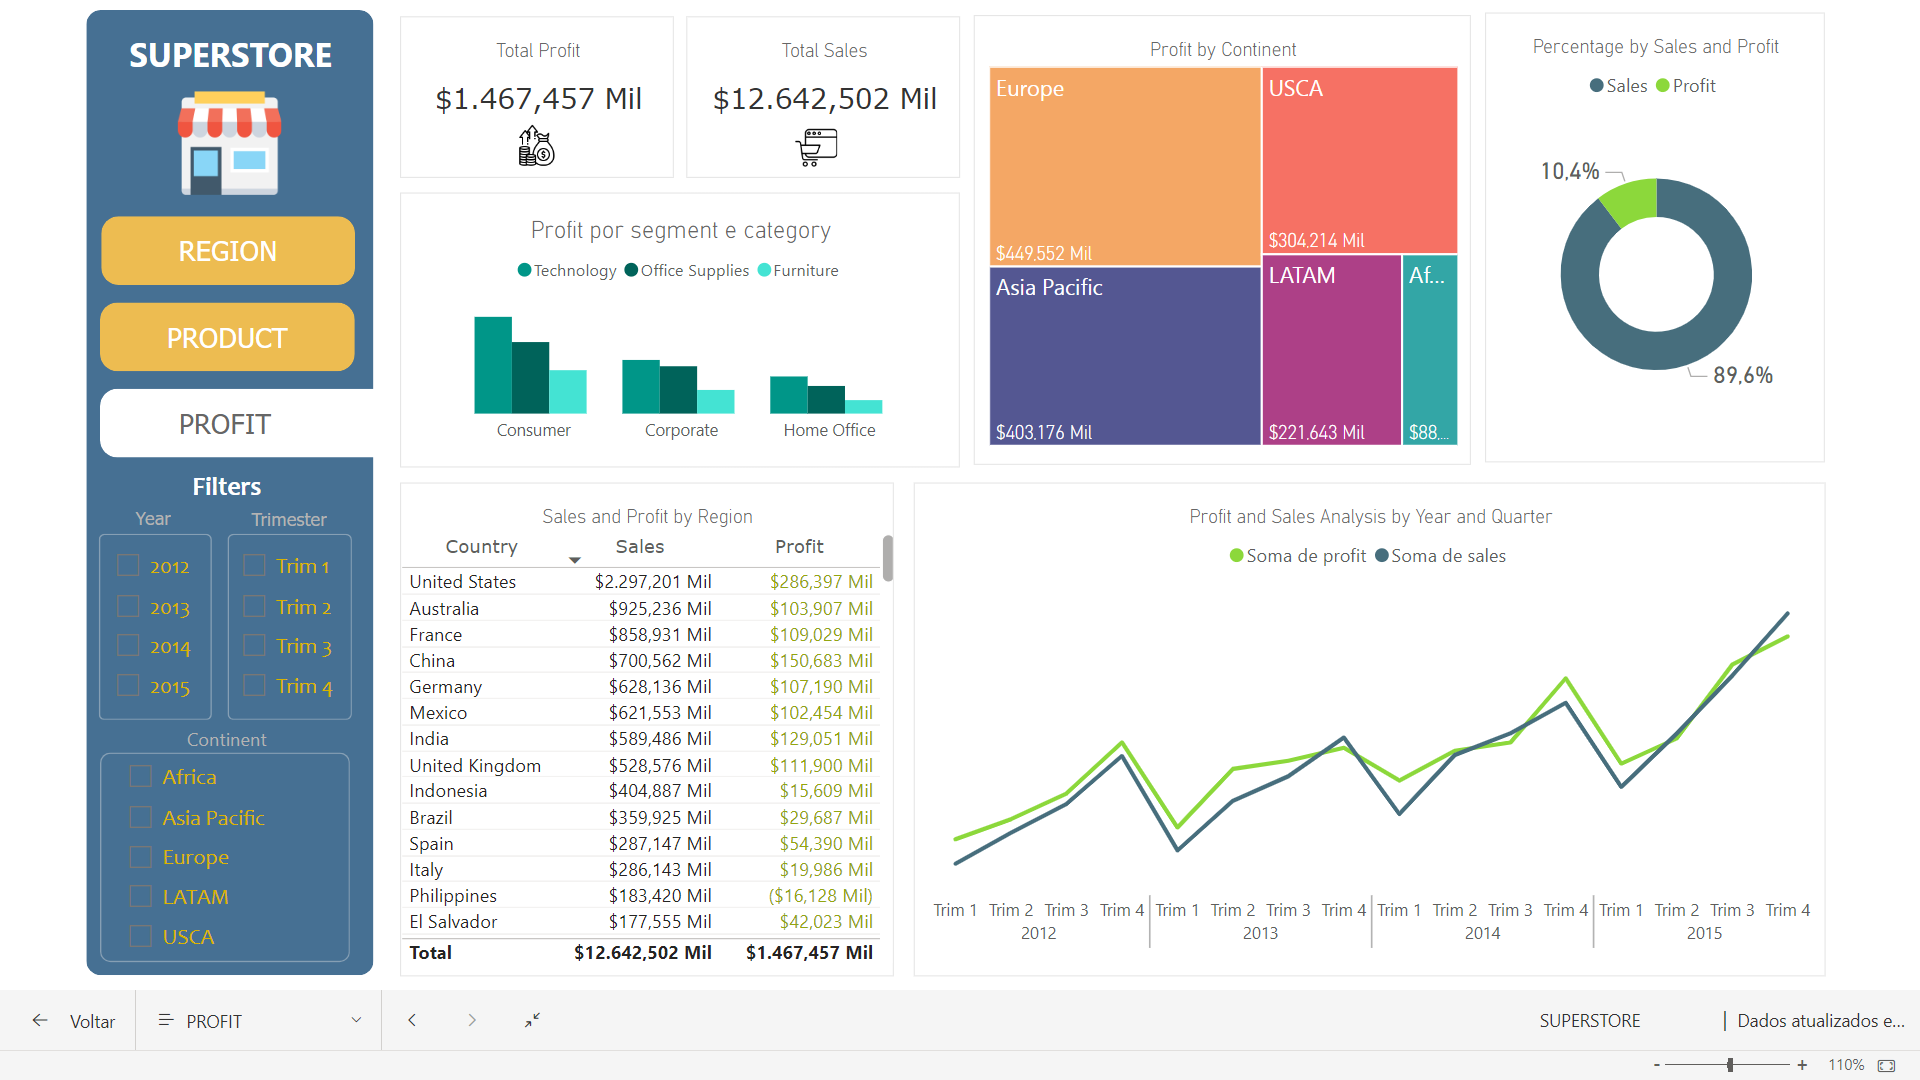

The page's visual inventory and layout, read from the dashboard file:
{"tool":"powerbi","page":{"name":"PROFIT","canvas":[1280,720],"ordinal":2},"visuals":[{"type":"lineChart","title":"Profit and Sales Analysis by Year and Quarter","fields":{"Category":["Orders.orderDate.Variation.Hierarquia de datas.Ano","Orders.orderDate.Variation.Hierarquia de datas.Trimestre"],"Y":["Sum(Orders.profit)"],"Y2":["Sum(Orders.sales)"]},"box":[606.4,350.7,663.6,359.3],"z":0},{"type":"clusteredColumnChart","title":"Profit por segment e category","fields":{"Category":["Orders.segment"],"Y":["Sum(Orders.profit)"],"Series":["Orders.category"]},"box":[232.9,140,407.1,200],"z":1000},{"type":"shape","box":[15.4,157.7,184.6,50],"z":1000,"group":"g1"},{"type":"donutChart","title":"Percentage by Sales and Profit","fields":{"Y":["Sum(Orders.sales)","Sum(Orders.profit)"]},"box":[1022,9.5,246.9,327.6],"z":2000},{"type":"shape","box":[14.4,219.9,185.3,50],"z":2000,"group":"g3"},{"type":"shape","box":[4.5,7.5,209,702],"z":3000},{"type":"shape","box":[14.6,282.3,211.9,50],"z":3000,"group":"g2"},{"type":"shape","box":[13.9,387.8,82.2,135.6],"z":4000},{"type":"slicer","fields":{"Values":["Orders.orderDate.Variation.Hierarquia de datas.Ano"]},"box":[13.9,392.2,86.7,131.1],"z":5000},{"type":"textbox","box":[4.3,363,93.3,29.4],"z":7000},{"type":"textbox","box":[103.9,363.3,92.8,29.4],"z":8000},{"type":"textbox","box":[12.1,523.3,186.2,28.3],"z":9000},{"type":"shape","box":[107.2,387.8,90.6,135.6],"z":10000},{"type":"shape","box":[14.4,546.9,181.9,152.5],"z":11000},{"type":"slicer","fields":{"Values":["Orders.orderDate.Variation.Hierarquia de datas.Trimestre"]},"box":[105,392.2,100,131.1],"z":12000},{"type":"slicer","fields":{"Values":["Orders.market"]},"box":[22.5,545,178.1,154.4],"z":13000},{"type":"card","title":"Total Profit","fields":{"Values":["Sum(Orders.profit)"]},"box":[232.4,11.8,199.4,117.6],"z":14000},{"type":"card","title":"Total Sales","fields":{"Values":["Sum(Orders.sales)"]},"box":[440.6,11.8,199.4,117.6],"z":15000},{"type":"tableEx","title":"Sales and Profit by Region","fields":{"Values":["Orders.country","Sum(Orders.sales)","Sum(Orders.profit)"]},"box":[232.4,350.6,358.8,359.4],"z":16000},{"type":"treemap","title":"Profit by Continent","fields":{"Group":["Orders.market"],"Values":["Sum(Orders.profit)"]},"box":[650,11.2,361.2,327.5],"z":17000},{"type":"image","box":[309.4,85.3,46.5,40],"z":18000},{"type":"image","box":[515.9,87.6,40,40],"z":19000},{"type":"group","id":"g1","title":"Grupo 1","box":[15.4,157.7,184.6,50],"z":20000},{"type":"group","id":"g2","title":"Grupo 3","box":[14.6,282.3,212.3,50],"z":21000},{"type":"group","id":"g3","title":"Grupo 2","box":[14.4,219.9,185.6,50],"z":22000},{"type":"textbox","box":[4.4,17.8,210,47.8],"z":23000},{"type":"image","box":[66.5,60.5,85,85.5],"z":24000},{"type":"textbox","box":[12.5,337.5,185,36.2],"z":24001}]}

Visuals, with their boxes on the page's 1280x720 design canvas (x1, y1, x2, y2). These are canvas units, not pixel positions in the 1920x1080 screenshot, which may show the page scaled, cropped or inside an application window:
"Profit and Sales Analysis by Year and Quarter" lineChart: [606, 351, 1270, 710]
"Profit por segment e category" clusteredColumnChart: [233, 140, 640, 340]
shape: [15, 158, 200, 208]
"Percentage by Sales and Profit" donutChart: [1022, 10, 1269, 337]
shape: [14, 220, 200, 270]
shape: [4, 8, 214, 710]
shape: [15, 282, 226, 332]
shape: [14, 388, 96, 523]
slicer - Orders.orderDate.Variation.Hierarquia de datas.Ano: [14, 392, 101, 523]
textbox: [4, 363, 98, 392]
textbox: [104, 363, 197, 393]
textbox: [12, 523, 198, 552]
shape: [107, 388, 198, 523]
shape: [14, 547, 196, 699]
slicer - Orders.orderDate.Variation.Hierarquia de datas.Trimestre: [105, 392, 205, 523]
slicer - Orders.market: [22, 545, 201, 699]
"Total Profit" card: [232, 12, 432, 129]
"Total Sales" card: [441, 12, 640, 129]
"Sales and Profit by Region" tableEx: [232, 351, 591, 710]
"Profit by Continent" treemap: [650, 11, 1011, 339]
image: [309, 85, 356, 125]
image: [516, 88, 556, 128]
"Grupo 1" group: [15, 158, 200, 208]
"Grupo 3" group: [15, 282, 227, 332]
"Grupo 2" group: [14, 220, 200, 270]
textbox: [4, 18, 214, 66]
image: [66, 60, 152, 146]
textbox: [12, 338, 198, 374]
